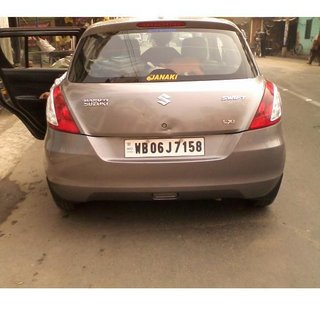number_plate: (123, 135, 207, 159)
